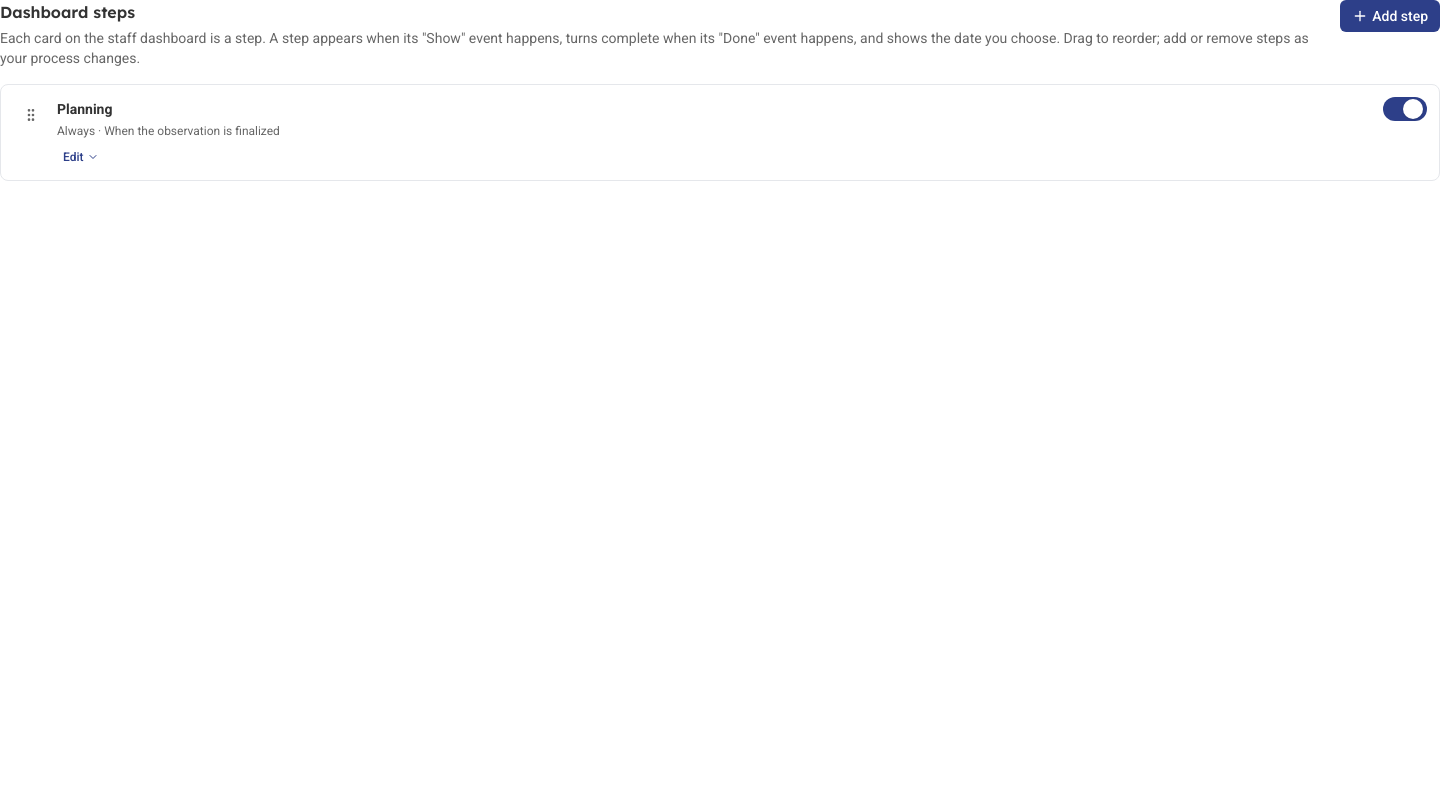
Test: CycleStepsEditor — completion mode › sets completionMode, hides "Mark it done" for manual, and the result saves
This screenshot has width=1440, height=807.
Click the button "Edit".
click(81, 157)  # box [57,147,106,167]
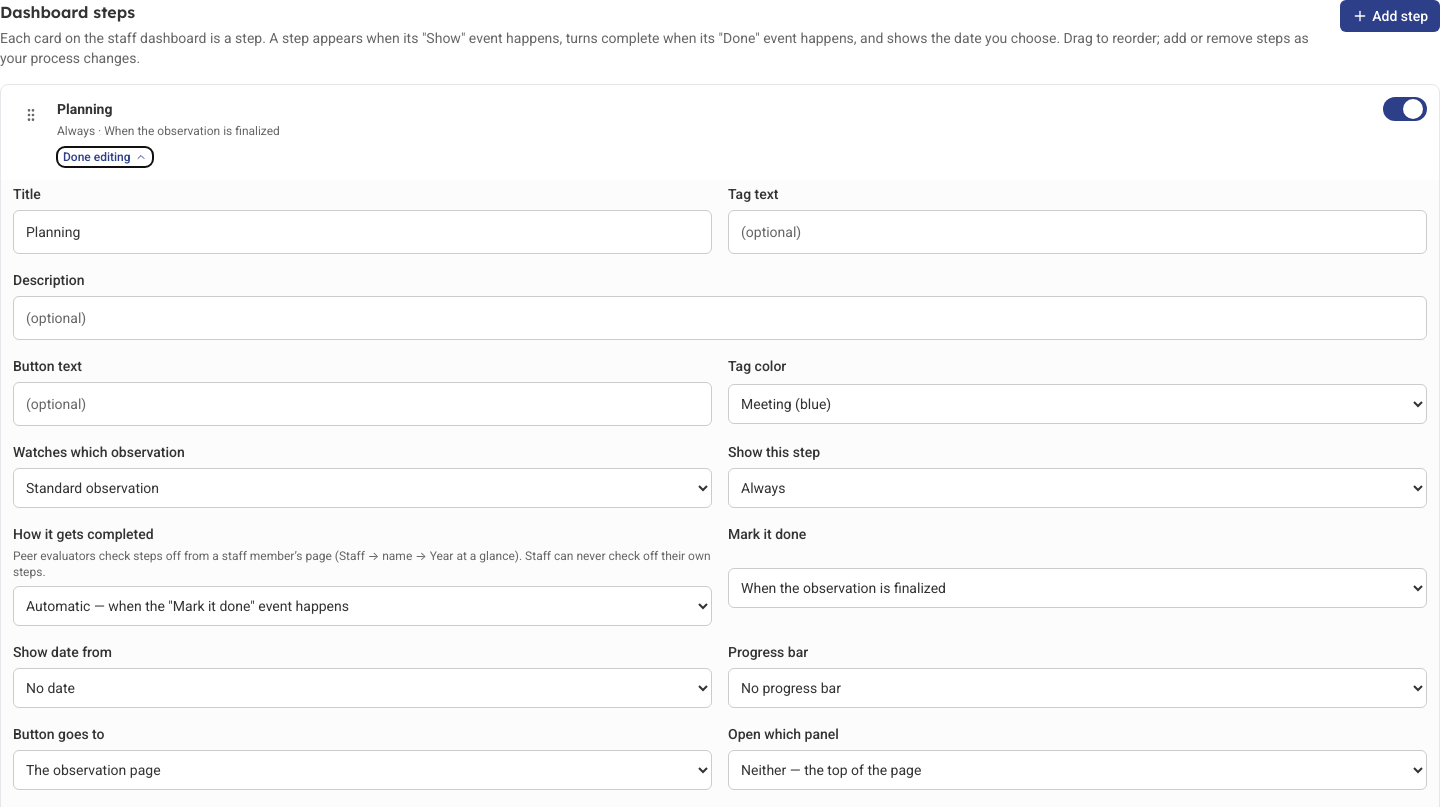
Check: the dropdown labelled "How it gets completed" shows "Automatic — when the \"Mark it done\" event happens"
Check: the dropdown labelled "Mark it done" is shown, box [728,568,1427,608]
Select "Evaluator checks off" in the dropdown labelled "How it gets completed" at coordinates (362, 606), box [13,586,712,626]
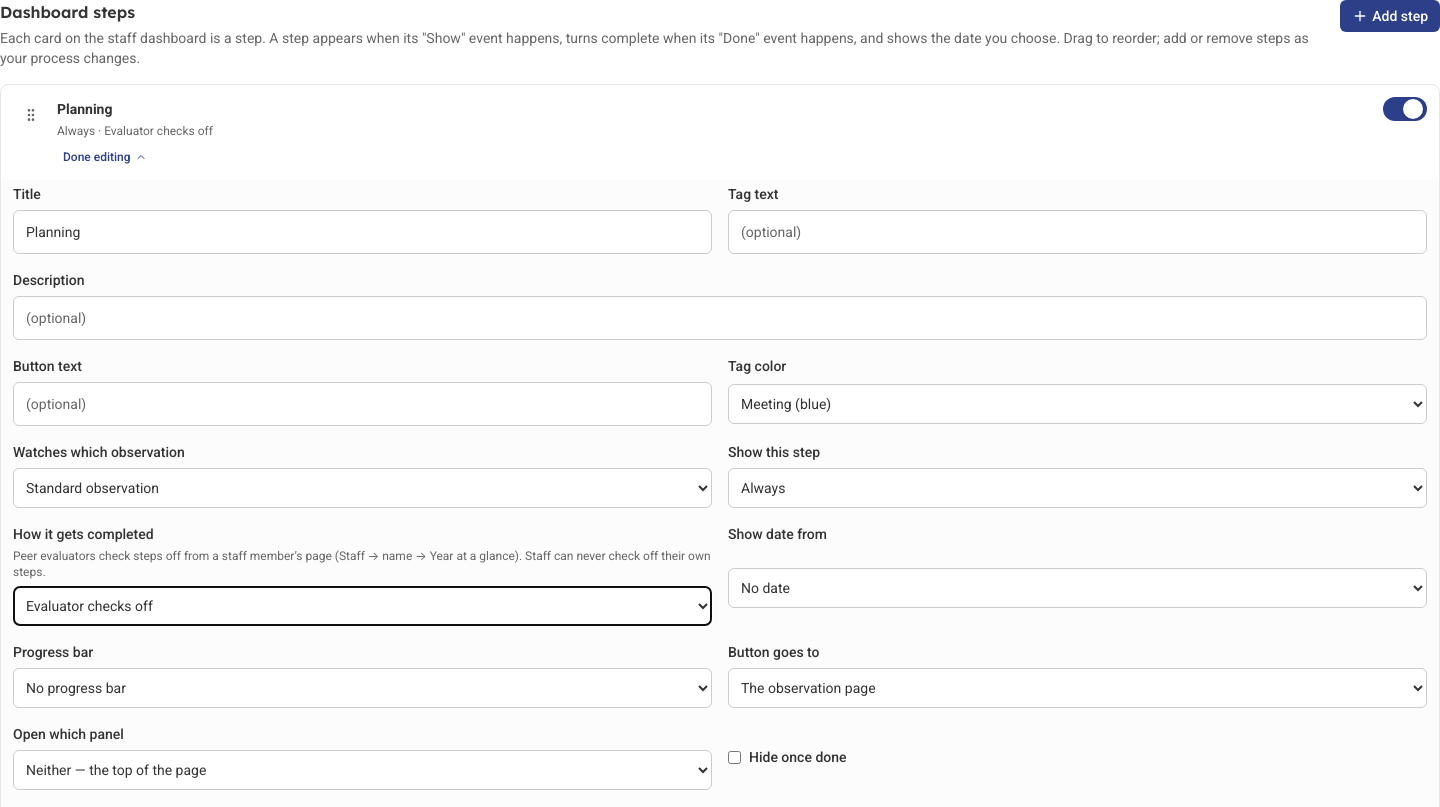
Check: the label labelled "Mark it done" is gone
Select "Either — automatically or when an evaluator checks it off" in the dropdown labelled "How it gets completed" at coordinates (362, 606), box [13,586,712,626]
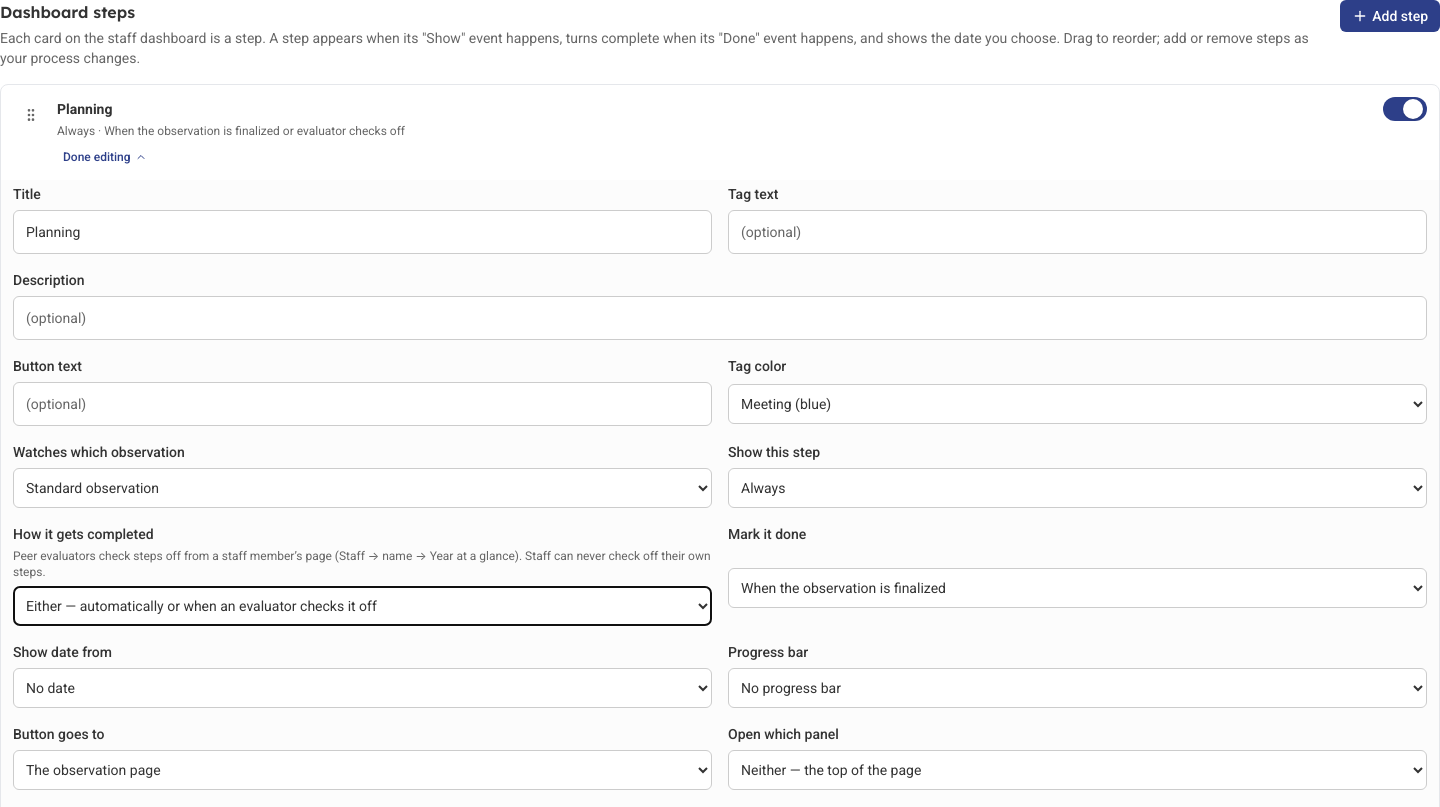
Check: the dropdown labelled "Mark it done" is shown, box [728,568,1427,608]
